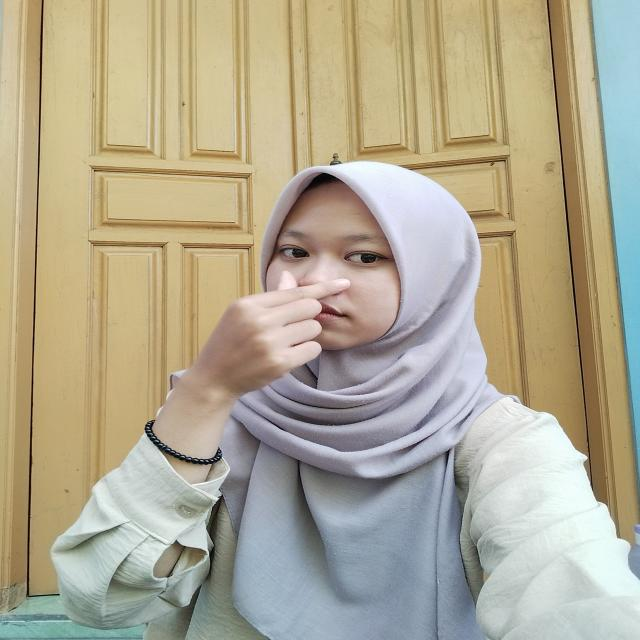bau: (162, 256, 373, 432)
